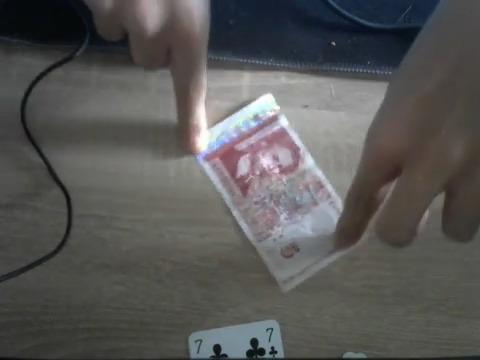5leva: (196, 94, 344, 294)
